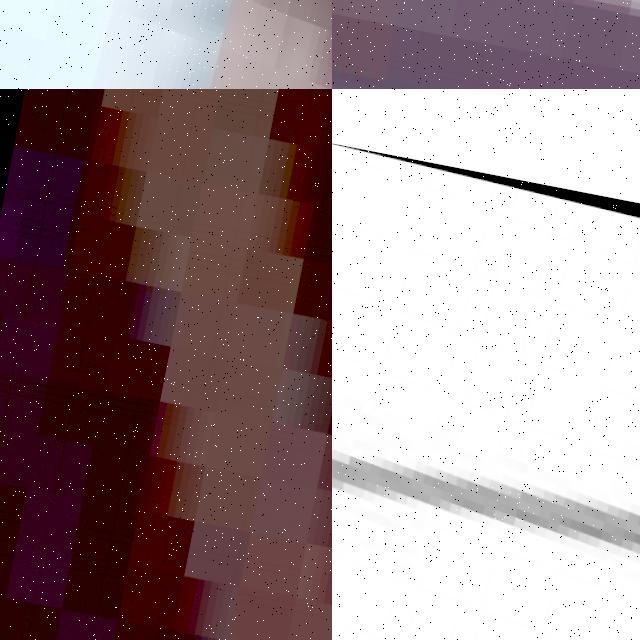drone: (332, 140, 640, 640), (0, 0, 332, 89)
